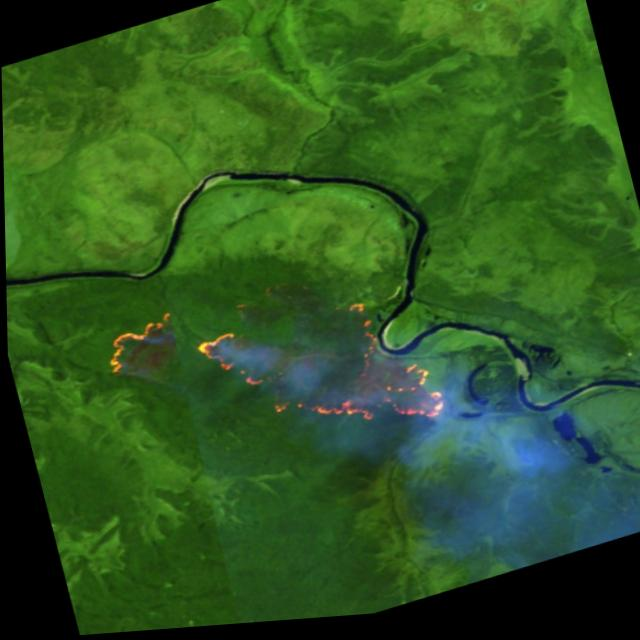fire: (87, 226, 456, 515)
